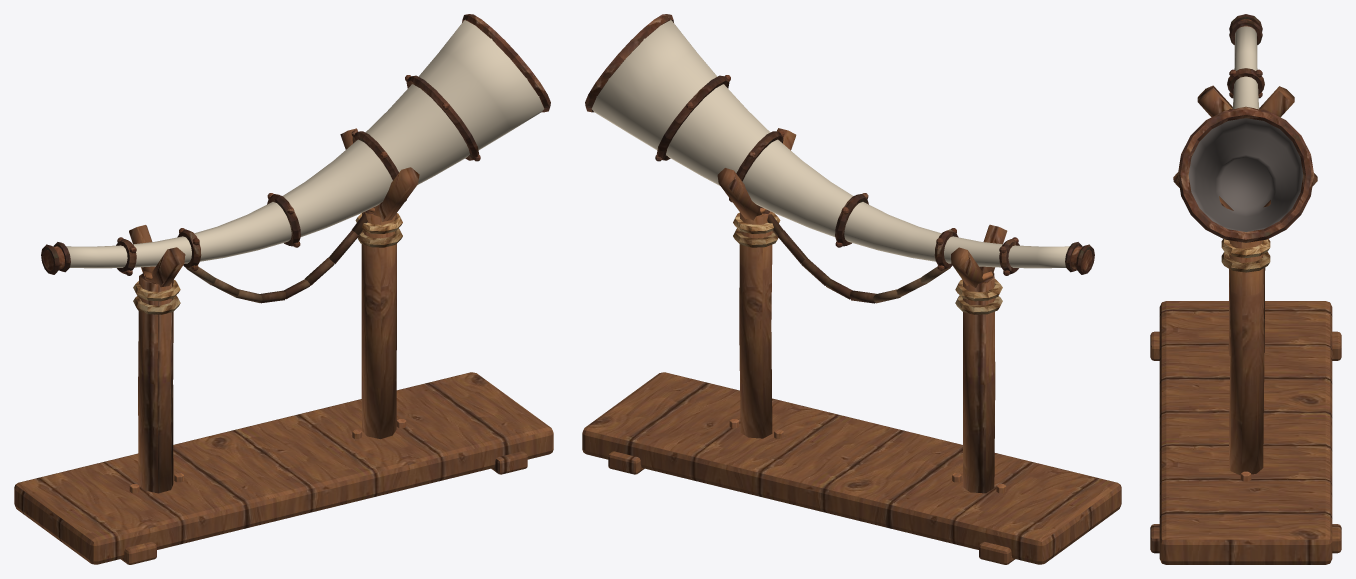
File: war_horn_stand.glb
3 renders of one model, left to right at view 1: azimuth 30°, elevation 25°; view 2: azimuth 150°, elevation 25°; view 3: azimuth 270°, elevation 25°, orthographic. The views are drawn at different scales.
Visible parts, largest first — view 1: model; view 2: model; view 3: model.
Boxes of the visible parts, bbox=[...] form: model: bbox=[14, 14, 553, 564]; model: bbox=[582, 14, 1121, 564]; model: bbox=[1150, 14, 1341, 564].
Size of the model in its own units: 1.32 by 1.08 by 0.42.
Materials: 10 (8 with a texture image).
